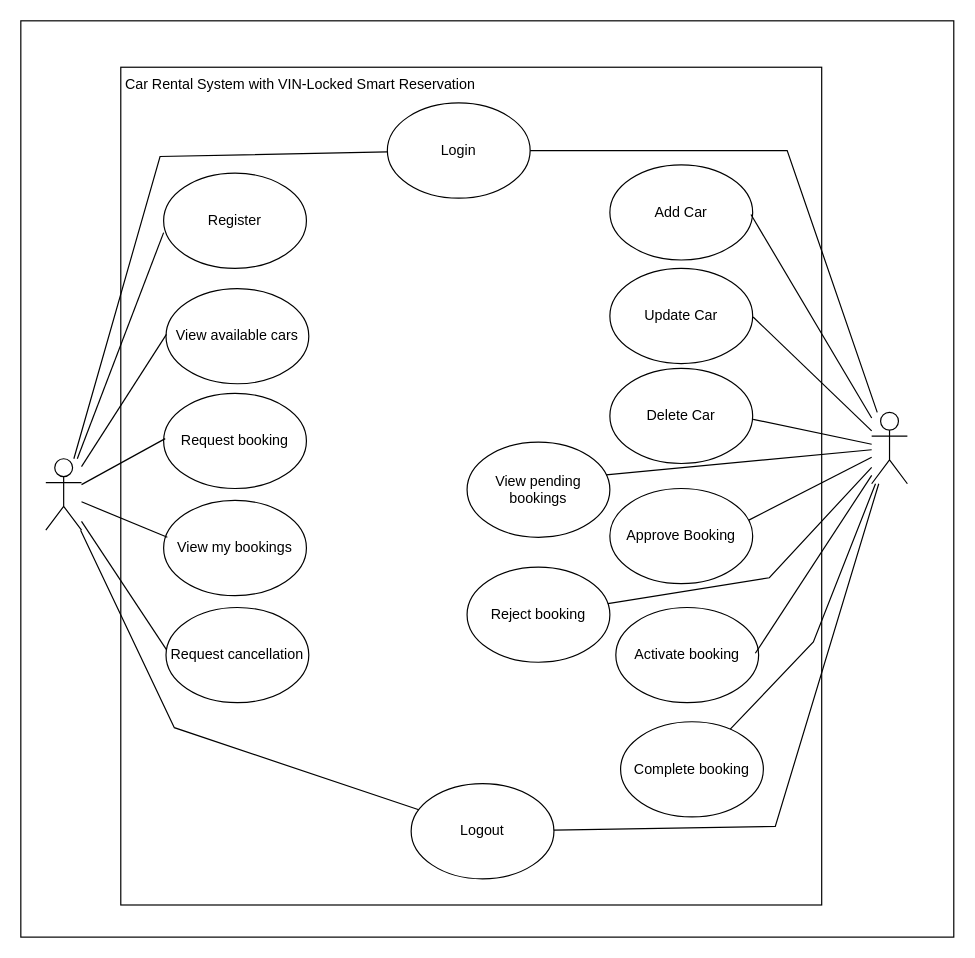
Image size: 975x958. Some labels were removed from this diagram. Each missing label, with the box of its shape:
Admin: (870, 411, 907, 484)
Customer: (45, 458, 82, 530)
